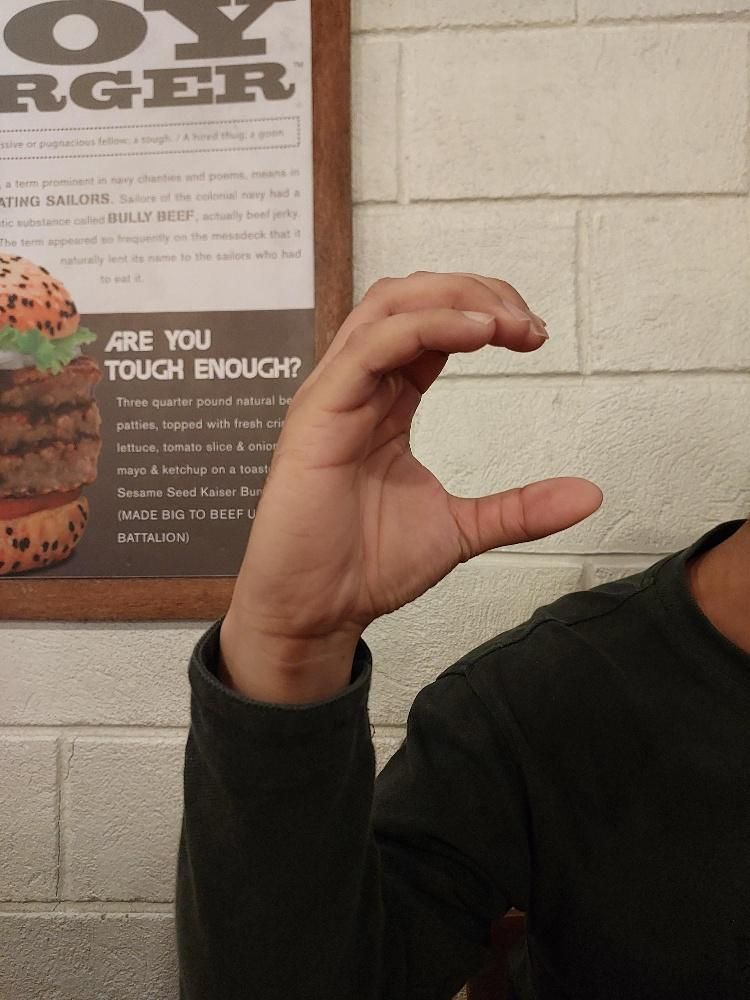c: (243, 268, 607, 636)
